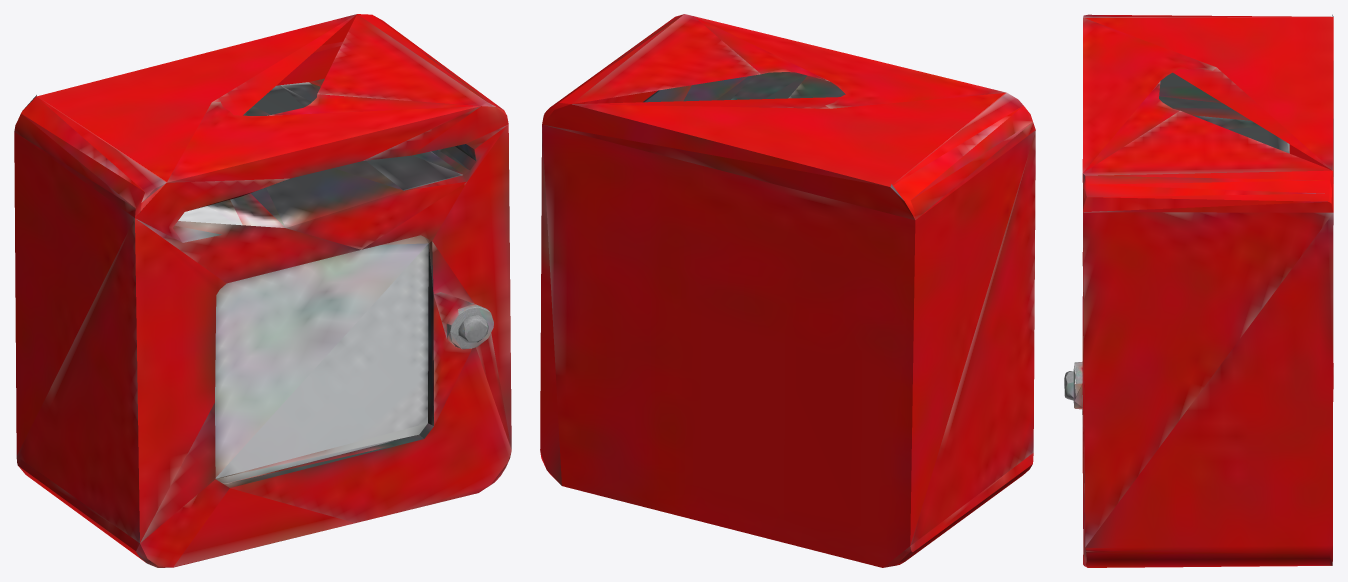
File: fire_alarm_nordic_low.glb
3 views of the same model, side by side, from view 1: azimuth 30°, elevation 25°; view 2: azimuth 150°, elevation 25°; view 3: azimuth 270°, elevation 25° (orthographic).
Size of the model in its own units: 0.09 by 0.09 by 0.055.
Materials: 1 (1 with a texture image).
